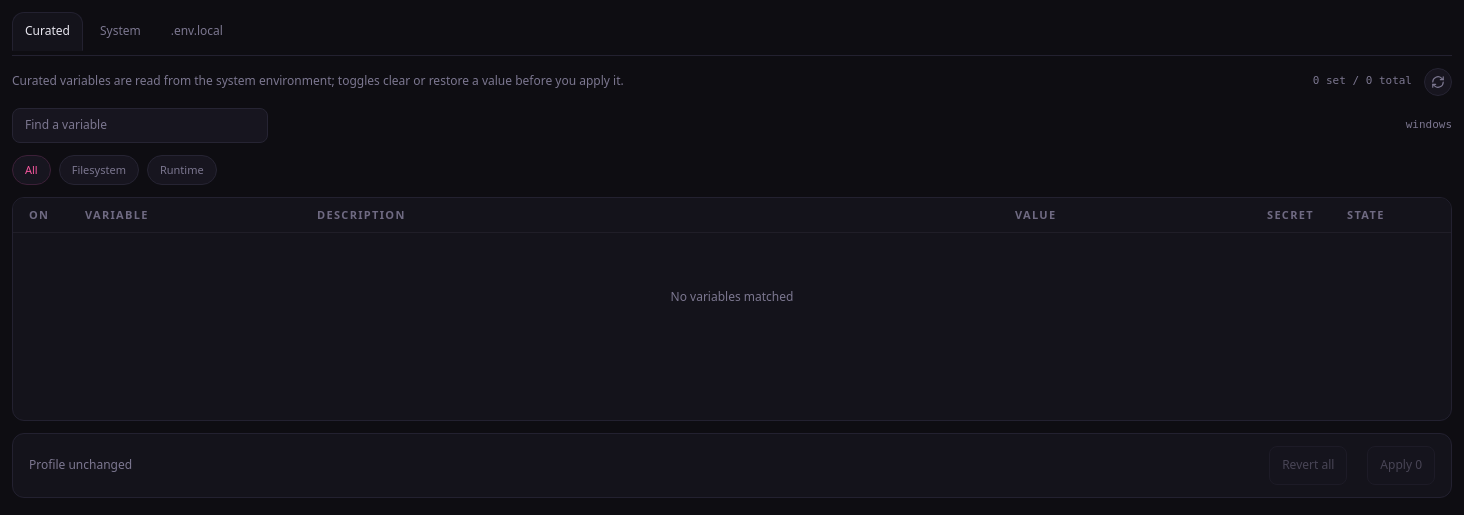
Test: revealing one value › shows an empty value as an answer rather than as a failure
Click the tab ".env.local" at (197, 31), box [158,12,236,51]
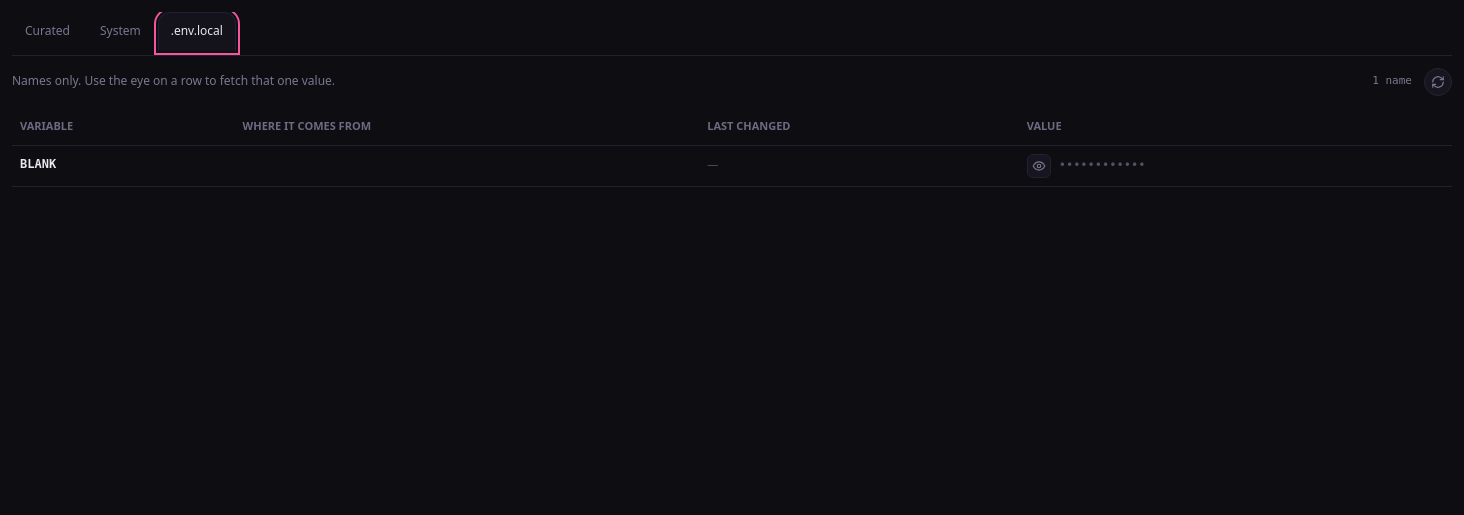
Click the button named "Reveal BLANK" at (1039, 166), box [1027,154,1051,178]
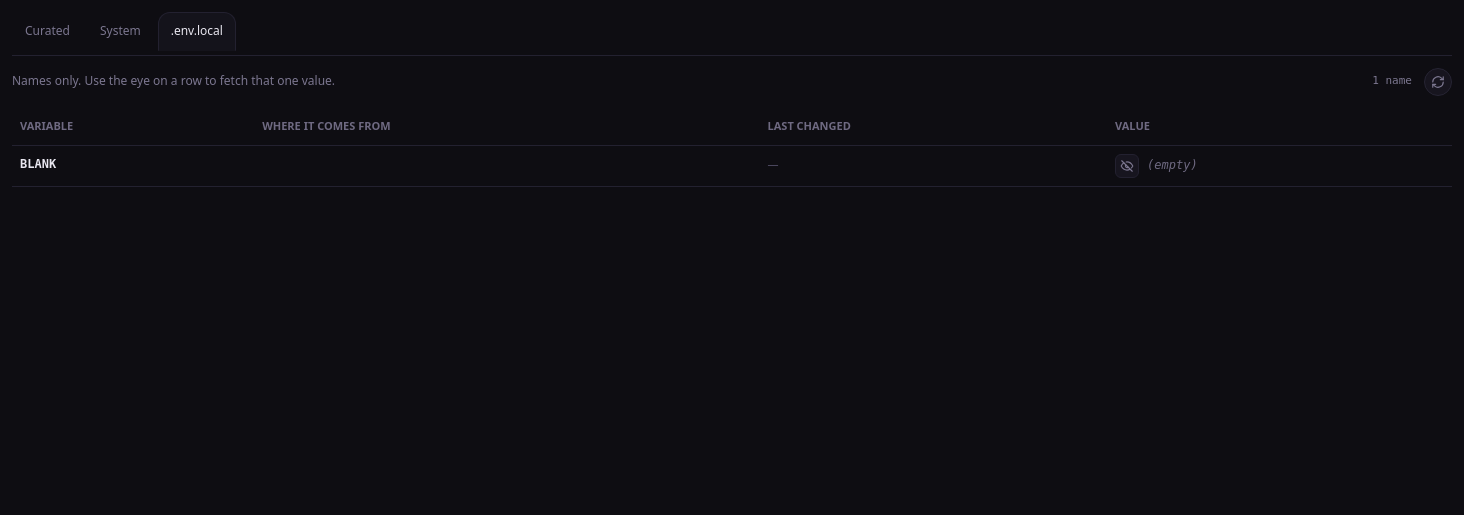
Result: the text "(empty)" is shown at [1147,155,1198,176]
